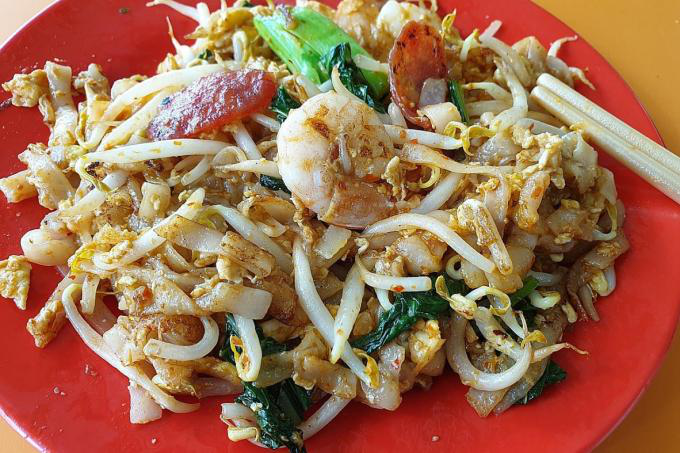Char Kway Teow: (36, 18, 609, 424)
